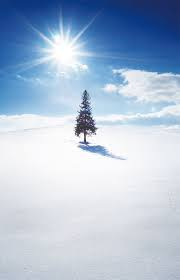sky: (2, 3, 180, 125)
tree: (65, 84, 111, 159)
